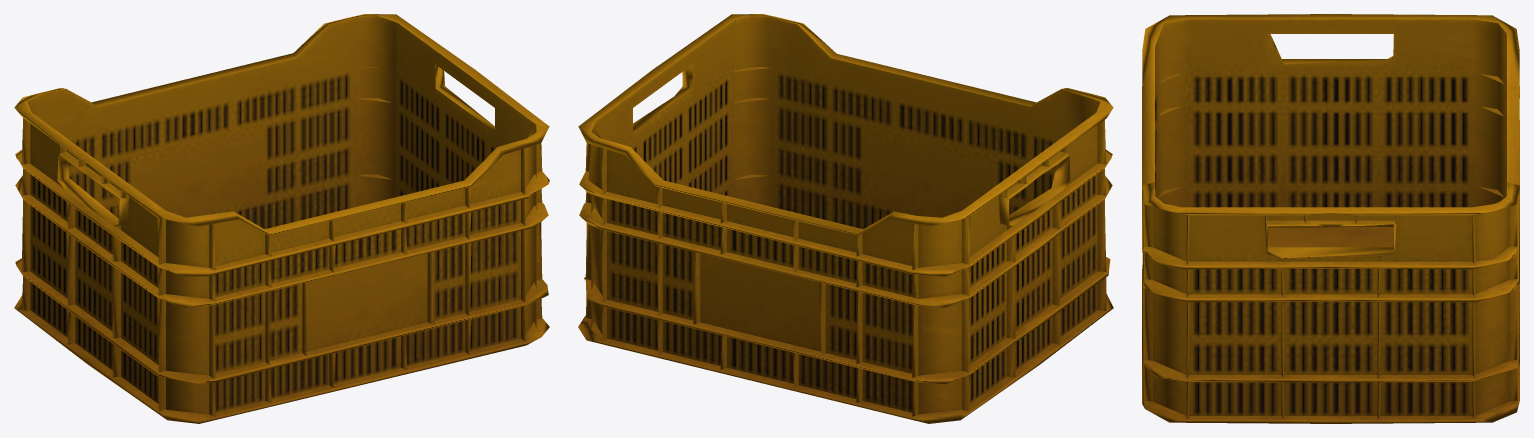
Rendered from plastic_crate_02.glb.
The picture shows the model from 3 angles, left to right: view 1: azimuth 30°, elevation 25°; view 2: azimuth 150°, elevation 25°; view 3: azimuth 270°, elevation 25°; orthographic projection. The views are drawn at different scales.
Parts seen in each view (by area): view 1: plastic_crate_02; view 2: plastic_crate_02; view 3: plastic_crate_02.
Part boxes in pixels (x1,y1,x2,y2): plastic_crate_02: (14, 14, 549, 423); plastic_crate_02: (578, 14, 1113, 423); plastic_crate_02: (1142, 14, 1519, 423).
Bounding box in the file's own units: 0.5055 × 0.2541 × 0.4055.
1 material, 1 textured.
